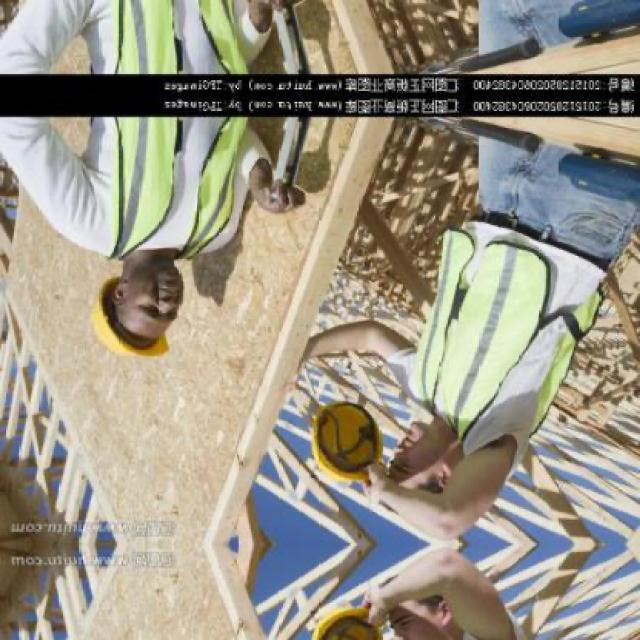con casco: (92, 256, 239, 394)
sin casco: (319, 354, 506, 536)
